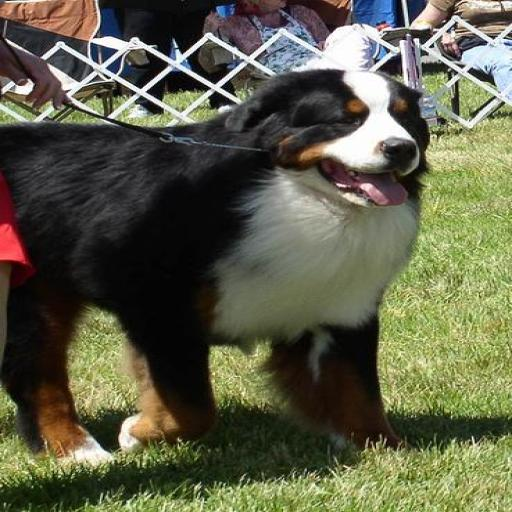dog_face: (256, 71, 434, 204)
